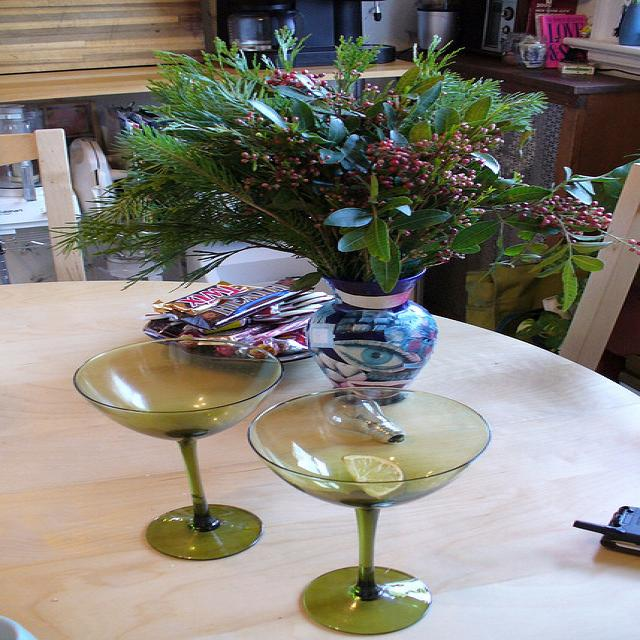chair: (555, 159, 640, 373), (0, 129, 90, 286)
dining table: (11, 283, 639, 631)
